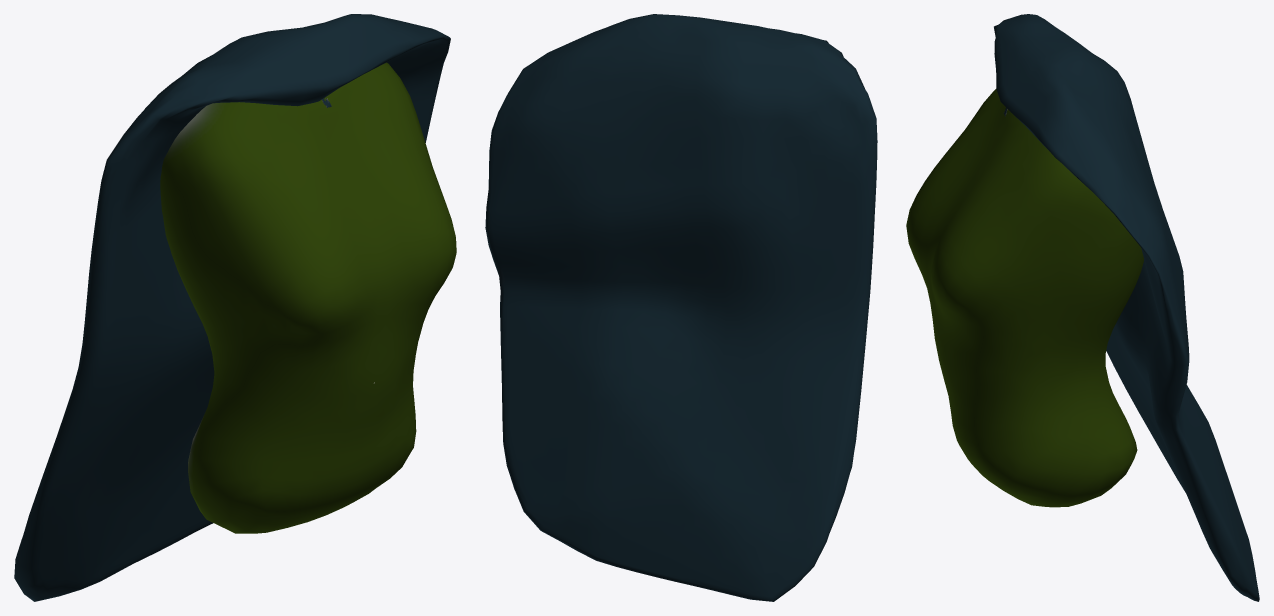
3 renders of one model, left to right at view 1: azimuth 30°, elevation 25°; view 2: azimuth 150°, elevation 25°; view 3: azimuth 270°, elevation 25°, orthographic. The views are drawn at different scales.
Parts seen in each view (by area): view 1: Woman_Body, Woman_Cloak; view 2: Woman_Cloak; view 3: Woman_Body, Woman_Cloak.
Part boxes in pixels (left/top/right/bottom): Woman_Body: left=160, top=62, right=456, bottom=533; Woman_Cloak: left=14, top=14, right=450, bottom=601; Woman_Cloak: left=485, top=14, right=877, bottom=601; Woman_Body: left=906, top=89, right=1143, bottom=507; Woman_Cloak: left=935, top=14, right=1259, bottom=601.
Bounding box in the file's own units: 29.22 × 39.65 × 23.48.
Materials: 2 (2 with a texture image).
